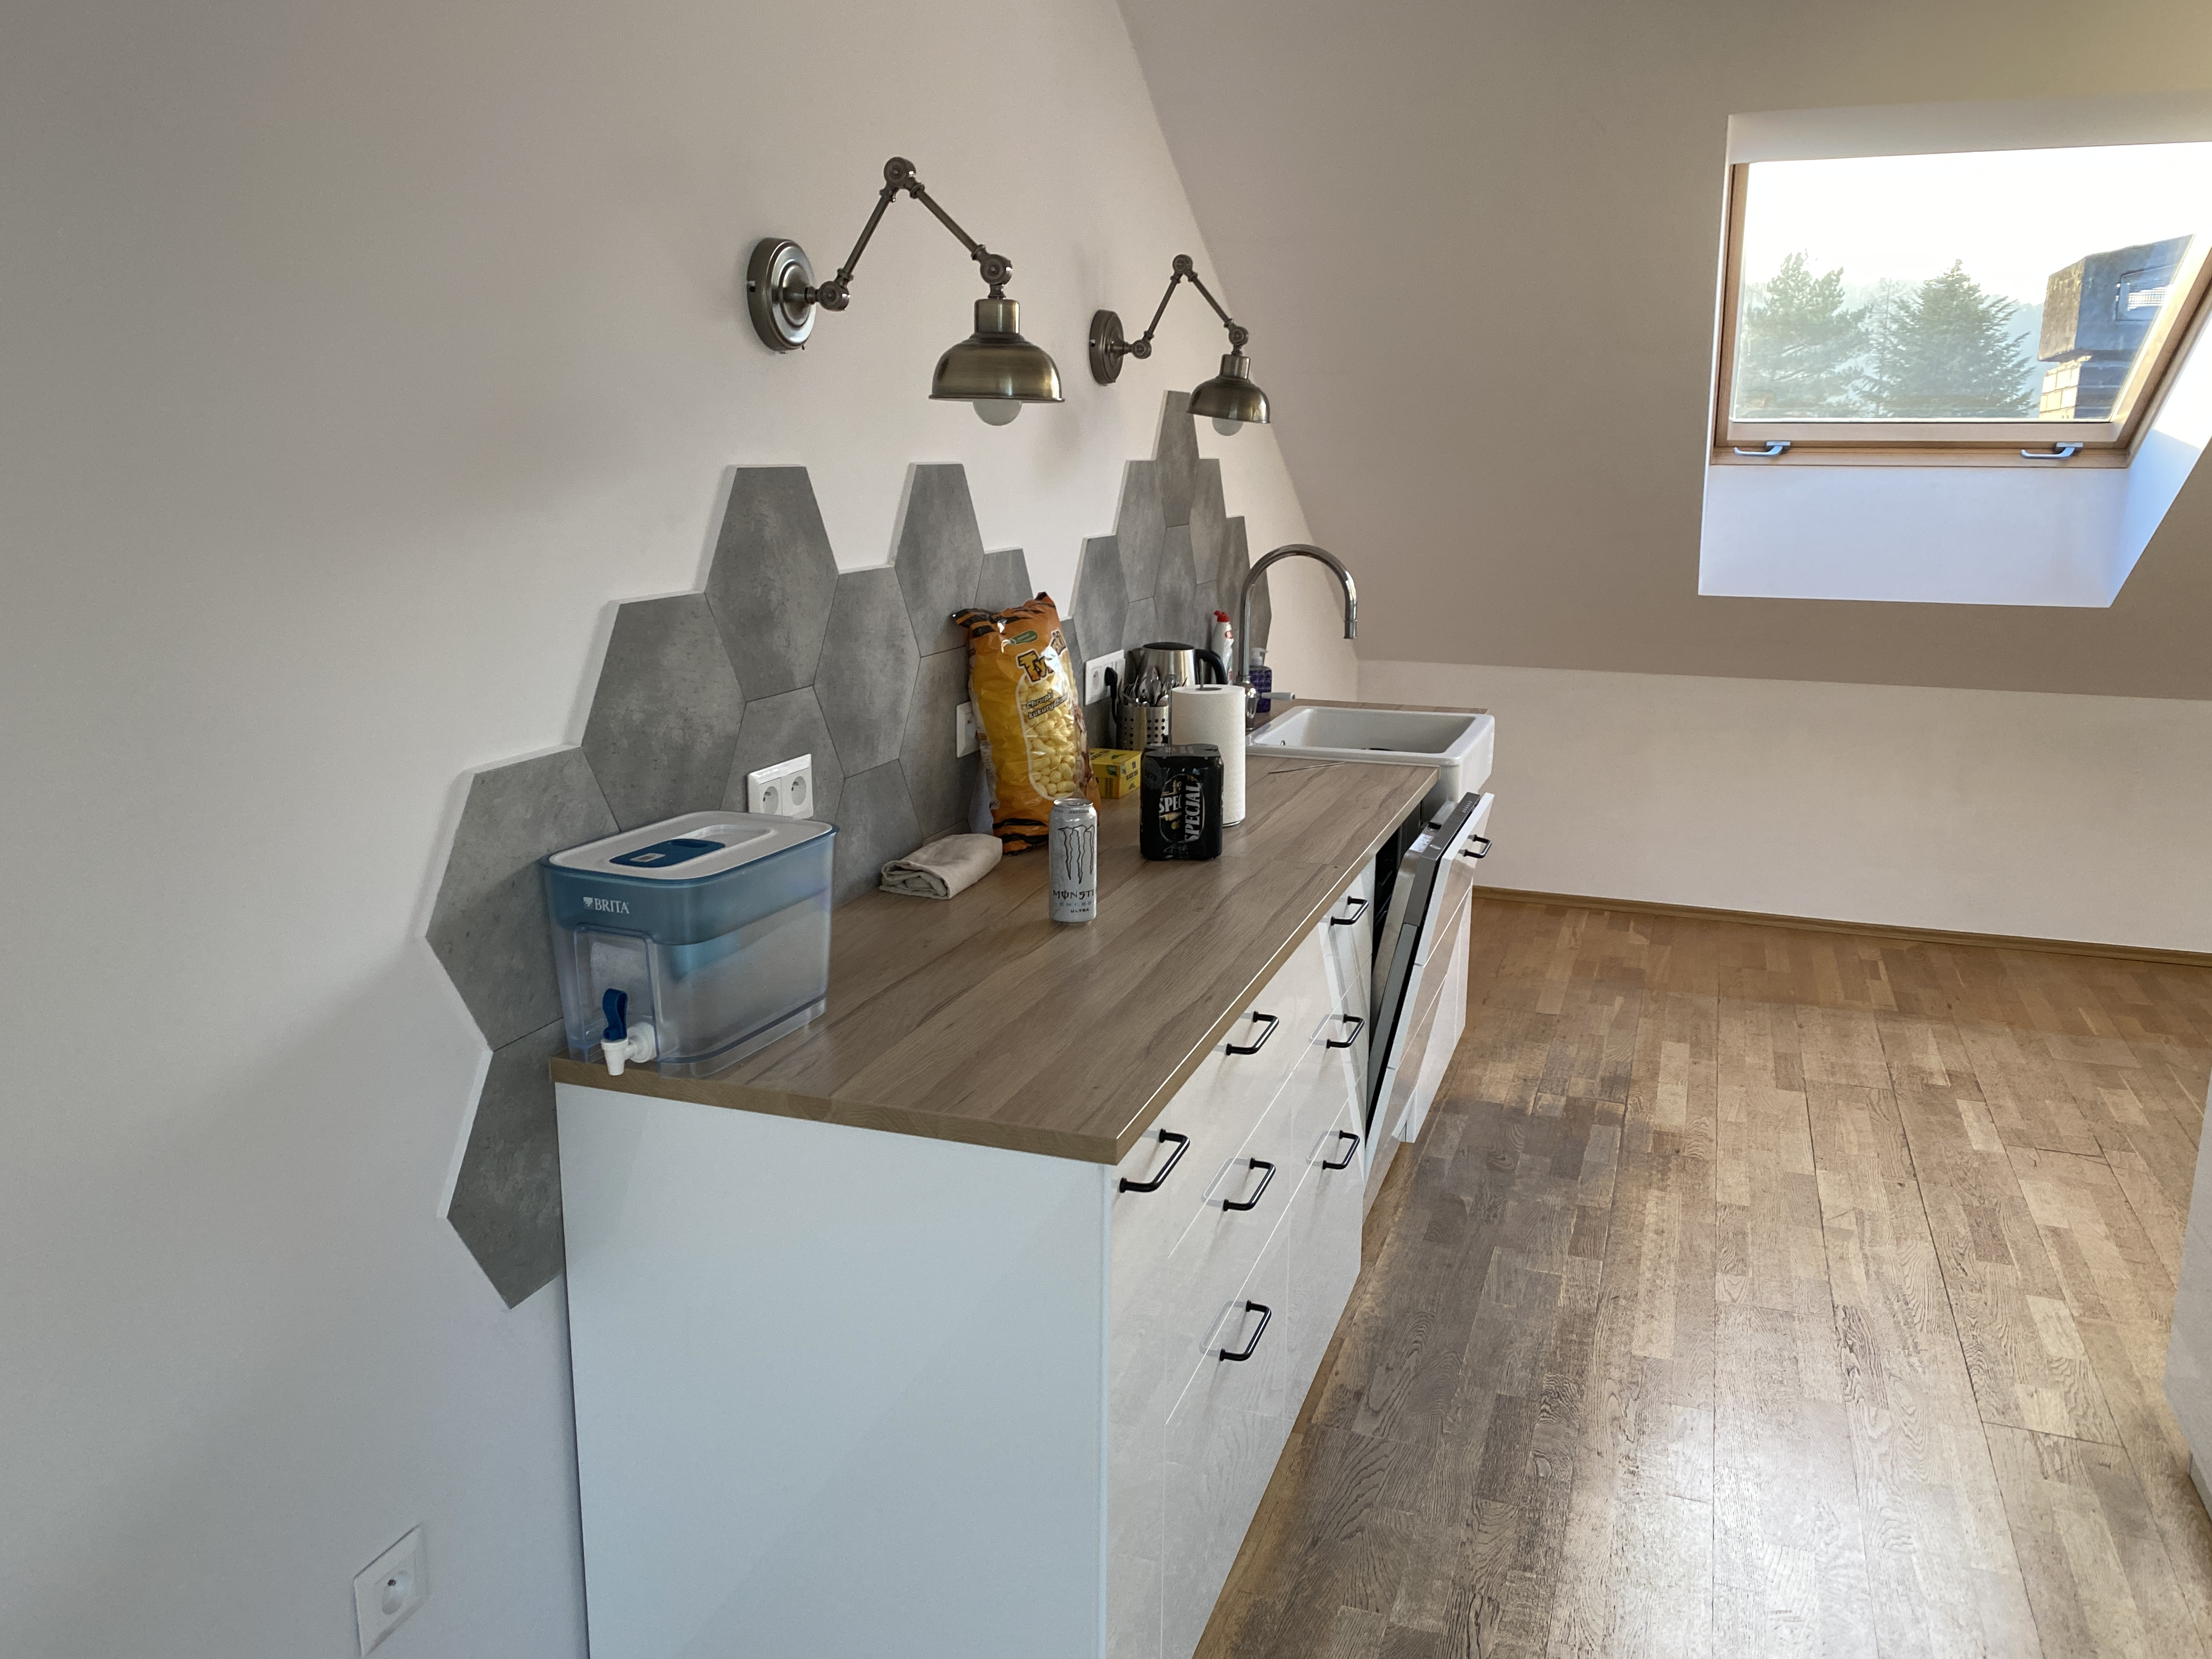specjal: (1139, 744, 1224, 866)
